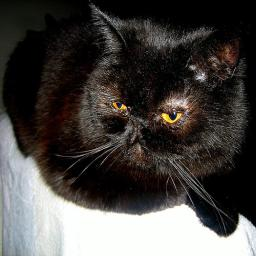catnose: (128, 119, 152, 137)
